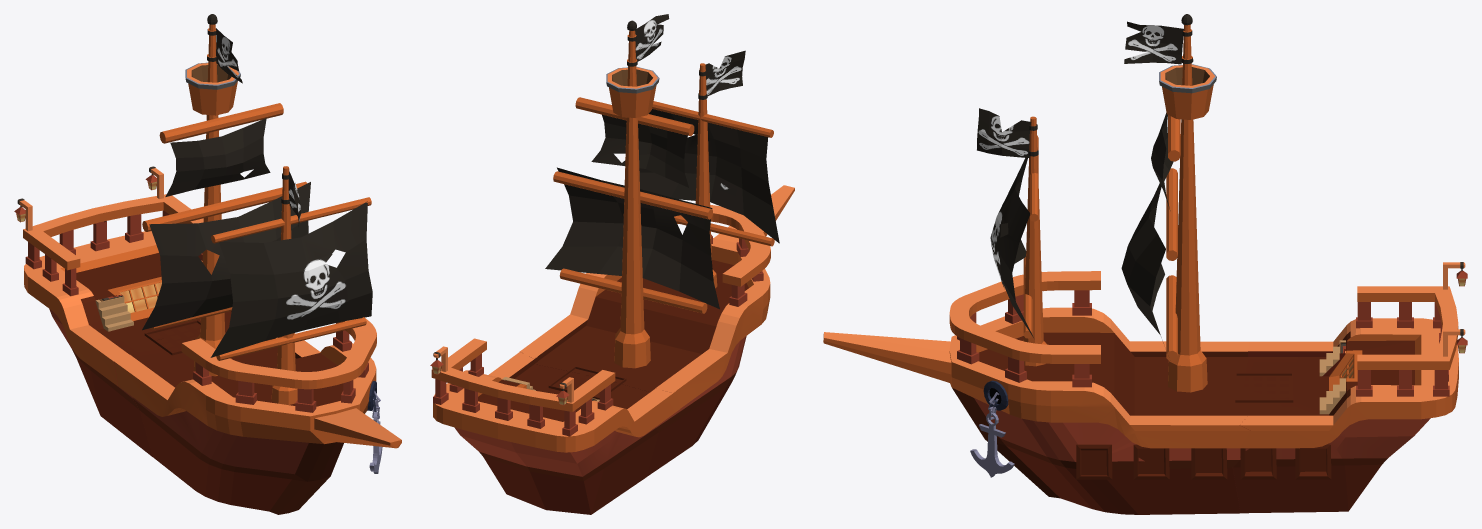
File: Boat_broken.fbx
The picture shows the model from 3 angles, left to right: view 1: azimuth 30°, elevation 25°; view 2: azimuth 150°, elevation 25°; view 3: azimuth 270°, elevation 25°; orthographic projection. The views are drawn at different scales.
Visible parts, largest first — view 1: boat_1, boat_2; view 2: boat_1, boat_2; view 3: boat_1, boat_2.
Boxes of the visible parts, x1,y1,x2,y2 form: boat_1: (111,14,401,514); boat_2: (14,166,231,456); boat_1: (519,14,794,476); boat_2: (430,338,679,514); boat_1: (823,14,1250,514); boat_2: (1233,262,1467,513).
Size of the model in its own units: 287 by 693 by 855.
1 material, 1 textured.
